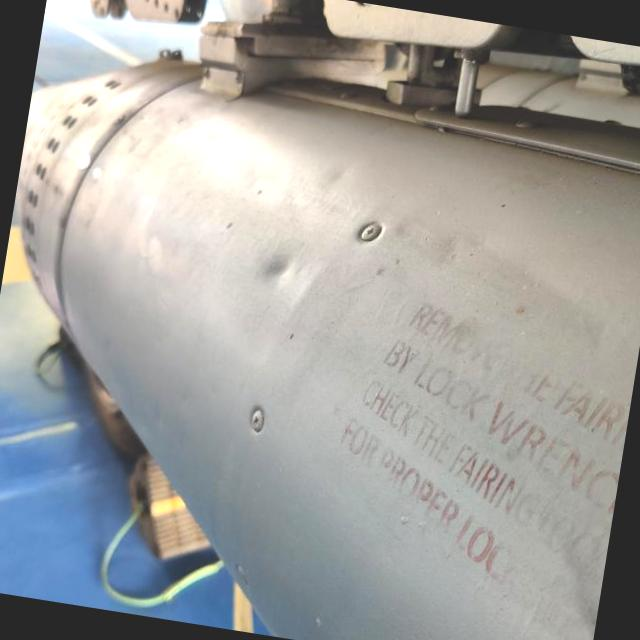dent: (248, 236, 312, 304)
